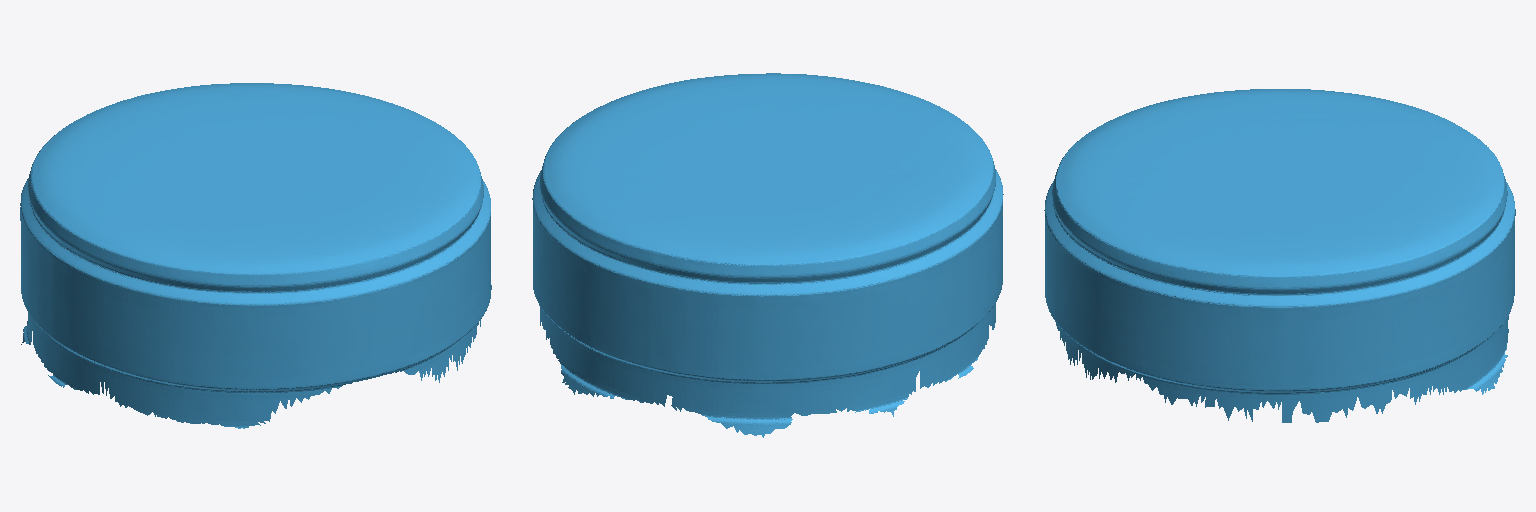
robot.urdf — bottle_01:
<?xml version='1.0' encoding='utf-8'?>
<robot name="bottle_01">
  <link name="l_0">
    <visual>
      <origin xyz="0 0 0" rpy="0 0 0" />
      <geometry>
        <mesh filename="./bottle_01_objs/0/0.obj" />
      </geometry>
    </visual>
    <collision>
      <origin xyz="0 0 0" rpy="0 0 0" />
      <geometry>
        <mesh filename="./bottle_01_objs/0/0.obj" />
      </geometry>
    </collision>
  </link>
  <link name="l_1">
    <visual>
      <origin xyz="0.0025000000000000044 0.007500000000000008 0.0025000000000000044" rpy="0 0 0" />
      <geometry>
        <mesh filename="./bottle_01_objs/1/1.obj" />
      </geometry>
    </visual>
    <collision>
      <origin xyz="0.0025000000000000044 0.007500000000000008 0.0025000000000000044" rpy="0 0 0" />
      <geometry>
        <mesh filename="./bottle_01_objs/1/1.obj" />
      </geometry>
    </collision>
  </link>
  <joint name="j_1" type="revolute">
    <parent link="l_0" />
    <child link="l_1" />
    <origin xyz="-0.0025000000000000044 -0.007500000000000008 -0.0025000000000000044" rpy="0 0 0" />
    <axis xyz="0.0 0.0 1.0" />
    <limit lower="-3.1416" upper="3.1416" effort="10" velocity="10" />
  </joint>
</robot>

--- Render facts (derived) ---
3 views of the same robot in one strip: view 1: azimuth 30°, elevation 25°; view 2: azimuth 150°, elevation 25°; view 3: azimuth 270°, elevation 25° (orthographic).
Model bottle_01 with 2 links and 1 joints (1 revolute), rooted at l_0, posed every joint at zero.
Links seen in each view (by area): view 1: l_1; view 2: l_1; view 3: l_1.
Link boxes in pixels (x1,y1,x2,y2): l_1: (20, 83, 491, 428); l_1: (532, 73, 1003, 437); l_1: (1044, 89, 1515, 422).
Size in the robot's own frame: 0.3026 by 0.3064 by 0.126 metres.
Meshes: 2 distinct files referenced, 1 mesh visuals loaded (1 OBJ); not drawn: 1 (reference not matched to a file when rendering).
